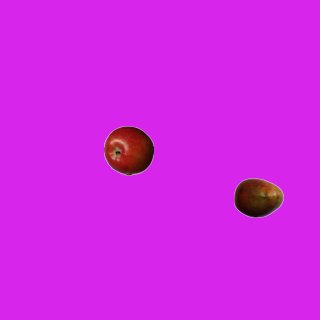Apple Braeburn: (103, 125, 153, 175)
Mango Red: (233, 172, 283, 222)
